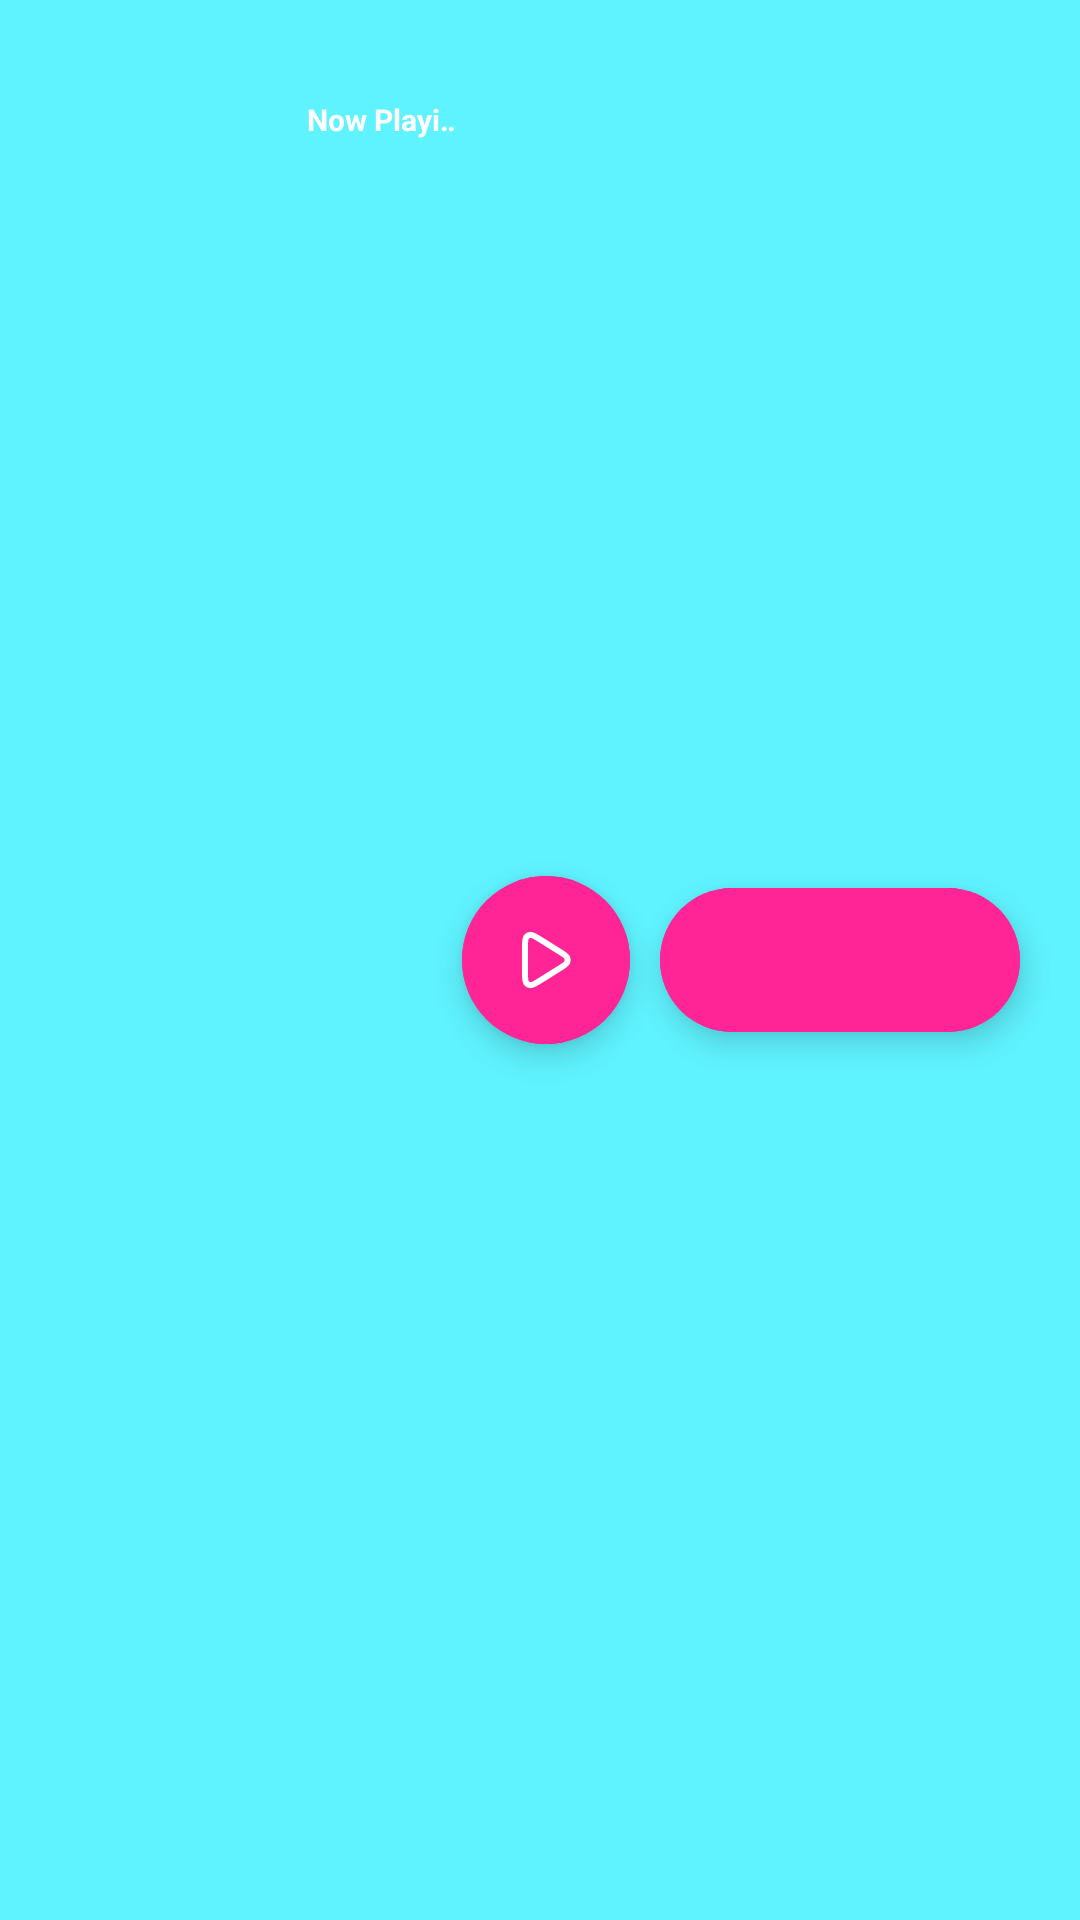

Icons on this 1080x1920 Android screen, each with the point to tap as (x=x, y=y):
play: (x=546, y=960)
